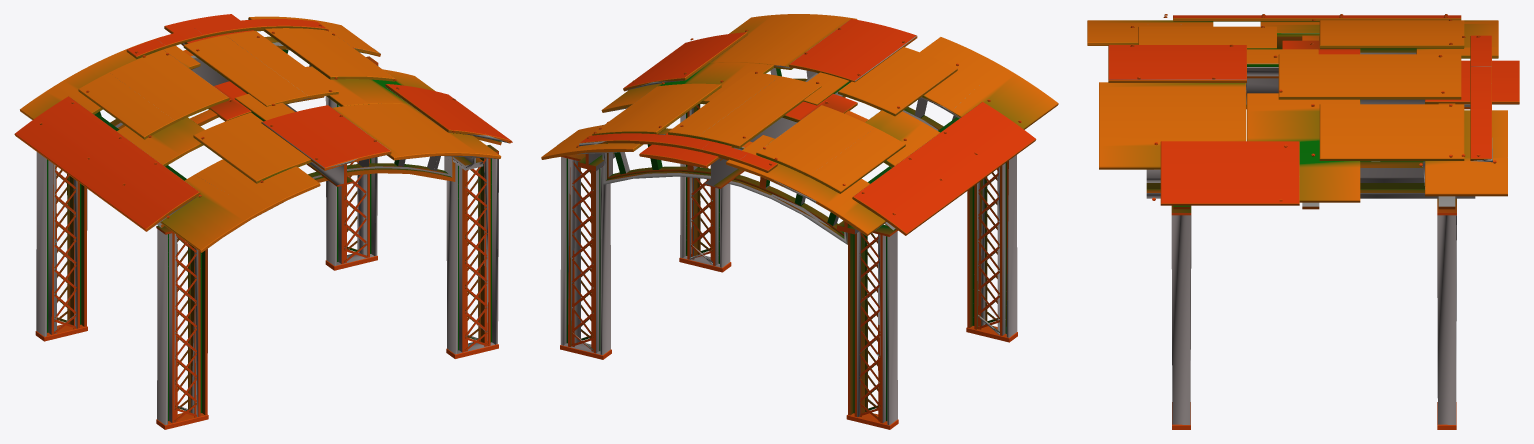
The model's file is KB3D_CSK_PropCanopy_A.glb.
3 renders of one model, left to right at view 1: azimuth 30°, elevation 25°; view 2: azimuth 150°, elevation 25°; view 3: azimuth 270°, elevation 25°, orthographic. The views are drawn at different scales.
Parts seen in each view (by area): view 1: L0, L2, L1; view 2: L0, L2, L1; view 3: L0, L2.
Part boxes in pixels (x1=…): L0: x1=14, y1=14, x2=512, y2=429; L2: x1=24, y1=31, x2=509, y2=424; L1: x1=39, y1=26, x2=511, y2=421; L0: x1=541, y1=14, x2=1058, y2=429; L2: x1=558, y1=19, x2=1017, y2=425; L1: x1=541, y1=27, x2=1020, y2=421; L0: x1=1087, y1=14, x2=1519, y2=429; L2: x1=1109, y1=24, x2=1518, y2=424.
Size of the model in its own units: 5.25 by 3.53 by 4.96.
